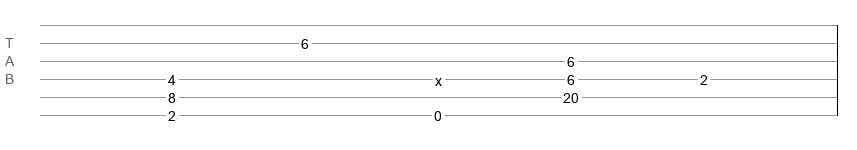0: (434, 108, 442, 118)
2: (168, 108, 176, 118), (700, 72, 708, 82)
20: (563, 90, 579, 100)
4: (168, 72, 176, 82)
6: (301, 36, 309, 46), (567, 54, 575, 64), (567, 72, 575, 82)
8: (168, 90, 176, 100)
x: (435, 73, 442, 81)
